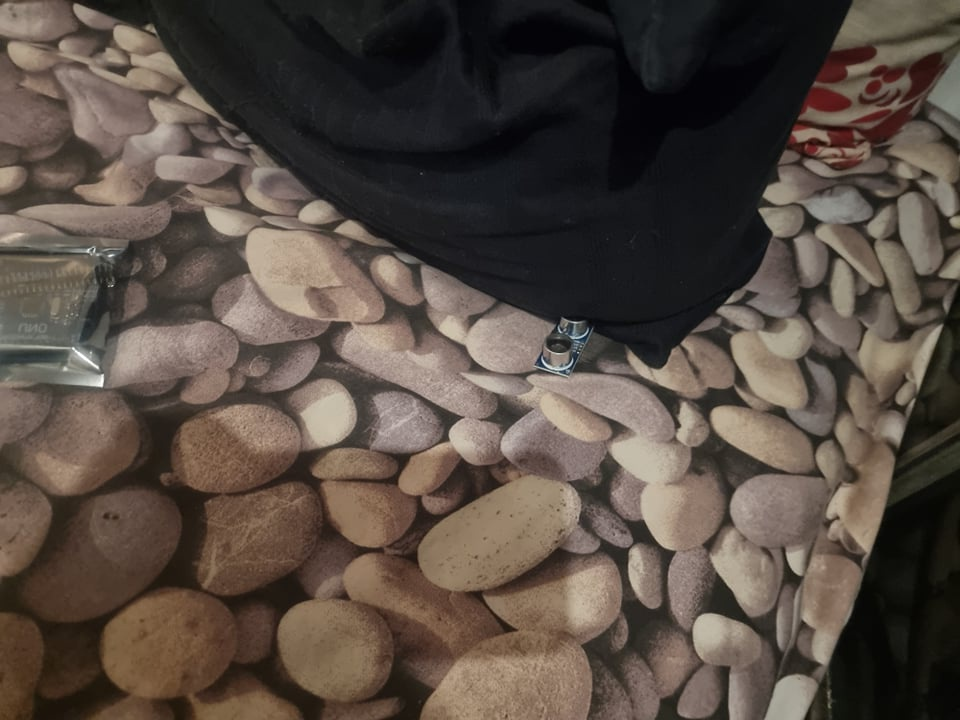SENSOR: (524, 312, 604, 377)
